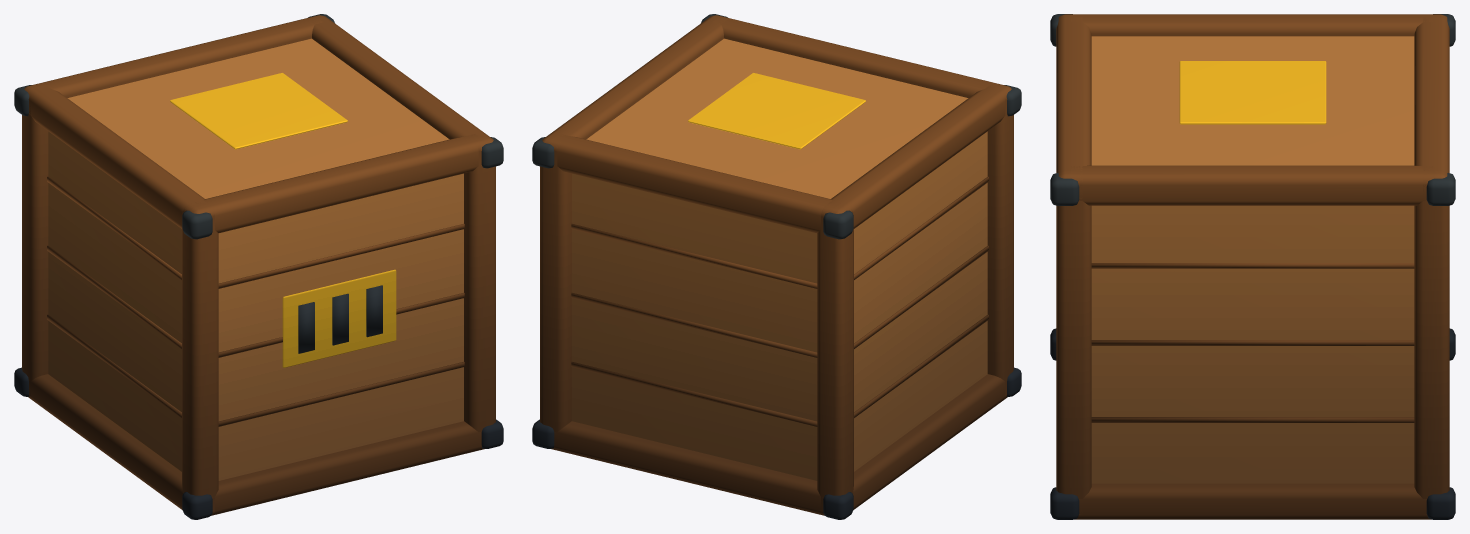
File: crate.glb
3 renders of one model, left to right at view 1: azimuth 30°, elevation 25°; view 2: azimuth 150°, elevation 25°; view 3: azimuth 270°, elevation 25°, orthographic. The views are drawn at different scales.
Visible parts, largest first — view 1: Crate body, Rim board.004, Corner post, Rim board, Corner post.002, Lid stencil, Rim board.006, Corner post.001, Stencil plate, Rim board.005, Rim board.002, Rim board.007 (+12 smaller); view 2: Crate body, Rim board.005, Corner post.001, Rim board.001, Corner post.003, Lid stencil, Rim board.006, Corner post, Rim board.004, Rim board.002, Rim board.007, Plank groove.005 (+8 smaller); view 3: Crate body, Rim board.007, Rim board.003, Corner post.002, Corner post.003, Lid stencil, Rim board.006, Rim board.005, Rim board.004, Plank groove.003, Plank groove.007, Plank groove.011 (+4 smaller).
Boxes of the visible parts, left/top/right/bottom form: Crate body: left=48, top=38, right=463, bottom=480; Rim board.004: left=195, top=134, right=486, bottom=232; Corner post: left=182, top=202, right=218, bottom=515; Rim board: left=211, top=421, right=484, bottom=515; Corner post.002: left=464, top=136, right=495, bottom=450; Lid stencil: left=170, top=73, right=347, bottom=149; Rim board.006: left=27, top=85, right=207, bottom=228; Corner post.001: left=22, top=85, right=48, bottom=399; Stencil plate: left=282, top=269, right=396, bottom=367; Rim board.005: left=32, top=16, right=323, bottom=97; Rim board.002: left=28, top=374, right=182, bottom=509; Rim board.007: left=310, top=17, right=489, bottom=139; Crate body: left=572, top=38, right=987, bottom=480; Rim board.005: left=549, top=134, right=840, bottom=232; Corner post.001: left=817, top=202, right=853, bottom=515; Rim board.001: left=551, top=421, right=823, bottom=515; Corner post.003: left=540, top=136, right=571, bottom=432; Lid stencil: left=688, top=73, right=865, bottom=149; Rim board.006: left=828, top=85, right=1008, bottom=228; Corner post: left=987, top=85, right=1013, bottom=398; Rim board.004: left=713, top=16, right=1003, bottom=97; Rim board.002: left=853, top=374, right=1007, bottom=509; Rim board.007: left=546, top=17, right=725, bottom=139; Plank groove.005: left=571, top=293, right=817, bottom=357; Crate body: left=1091, top=36, right=1414, bottom=483; Rim board.007: left=1071, top=165, right=1434, bottom=205; Rim board.003: left=1074, top=483, right=1431, bottom=519; Corner post.002: left=1056, top=171, right=1091, bottom=514; Corner post.003: left=1414, top=171, right=1449, bottom=514; Lid stencil: left=1179, top=61, right=1326, bottom=124; Rim board.006: left=1071, top=14, right=1434, bottom=36; Rim board.005: left=1414, top=17, right=1449, bottom=173; Rim board.004: left=1056, top=17, right=1091, bottom=173; Plank groove.003: left=1091, top=417, right=1414, bottom=422; Plank groove.007: left=1091, top=340, right=1414, bottom=345; Plank groove.011: left=1091, top=263, right=1414, bottom=268.
Size of the model in its own units: 1.38 by 1.31 by 1.38.
Materials: 4 (4 with a texture image).
